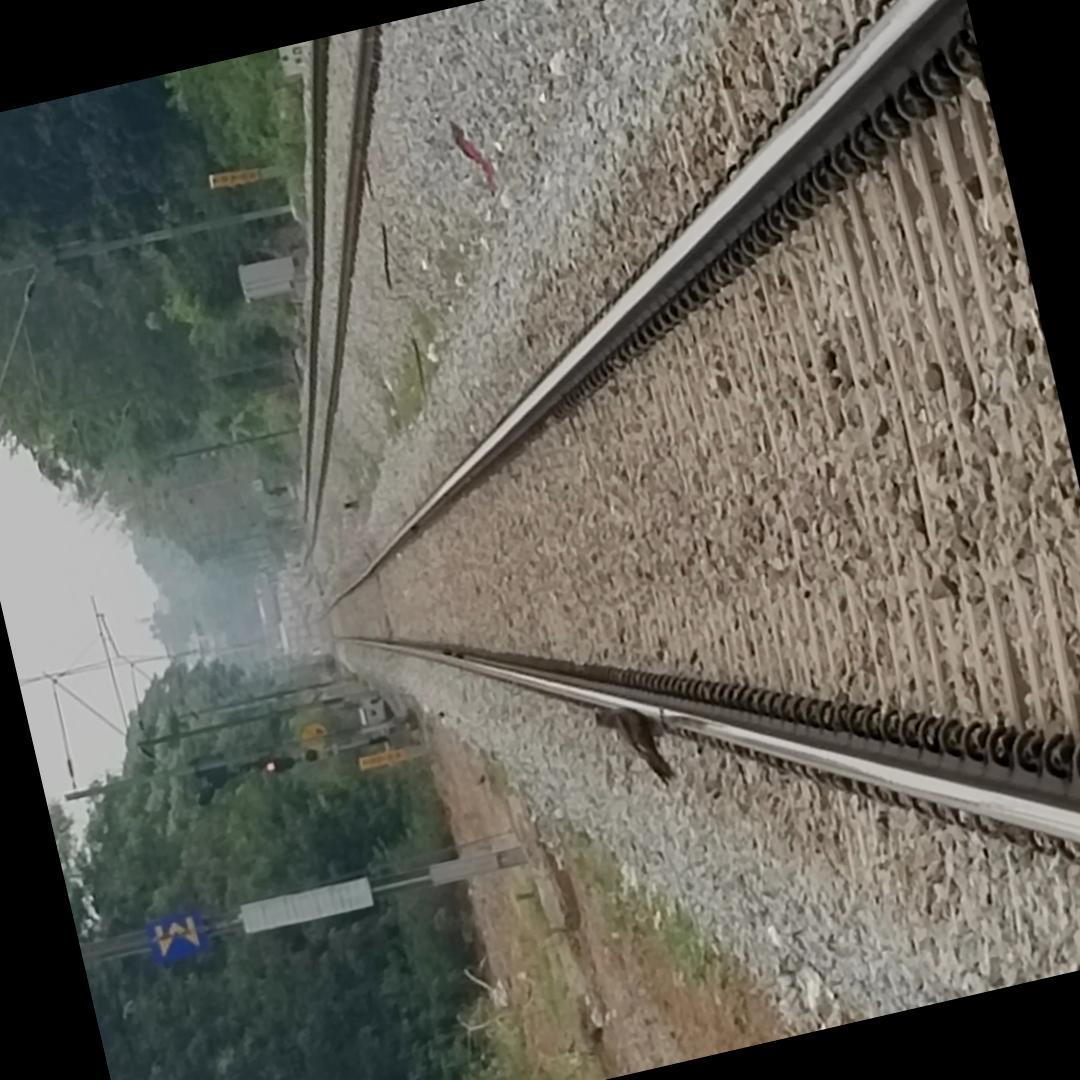track: (312, 0, 1080, 893)
